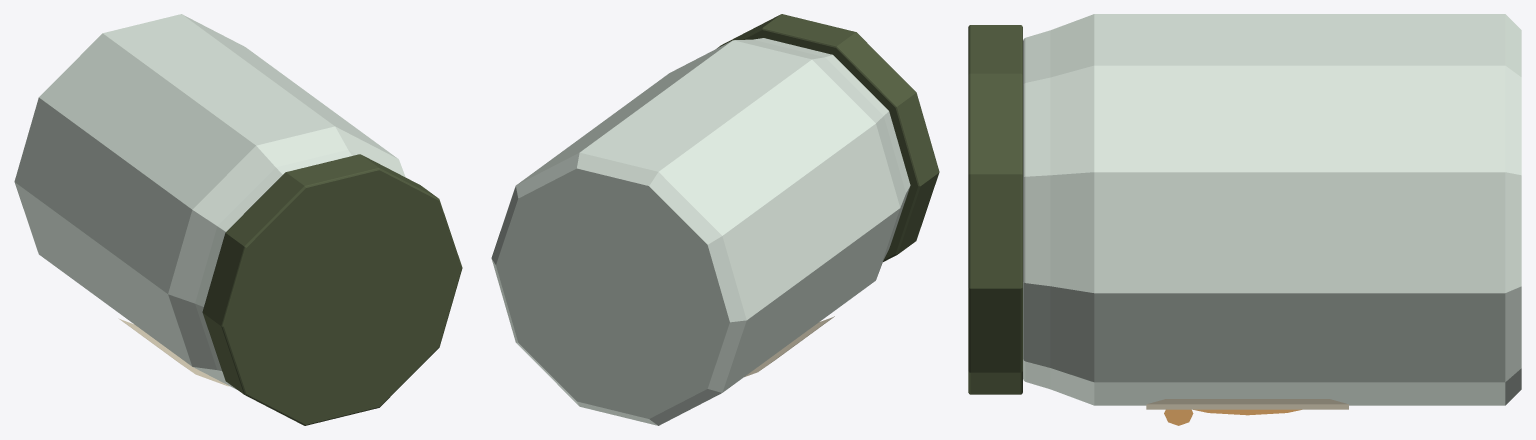
Rendered from almond_butter.glb.
The picture shows the model from 3 angles, left to right: view 1: azimuth 30°, elevation 25°; view 2: azimuth 150°, elevation 25°; view 3: azimuth 270°, elevation 25°; orthographic projection. The views are drawn at different scales.
Visible parts, largest first — view 1: almond_butter; view 2: almond_butter; view 3: almond_butter.
Part boxes in pixels (left/top/right/bottom): almond_butter: left=14, top=14, right=462, bottom=425; almond_butter: left=491, top=14, right=939, bottom=425; almond_butter: left=968, top=14, right=1521, bottom=425.
Size of the model in its own units: 0.072 by 0.0731 by 0.101.
